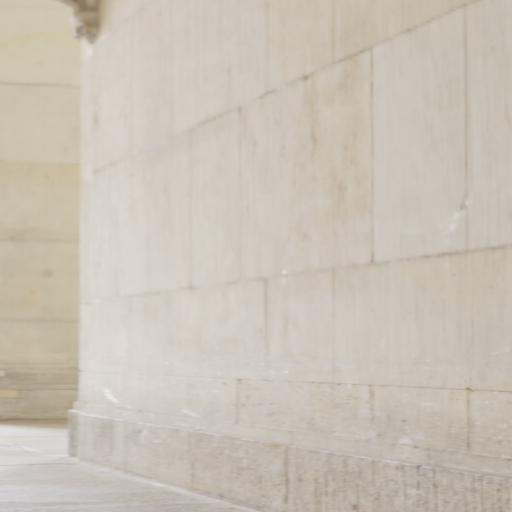nothing: (2, 1, 512, 511)
